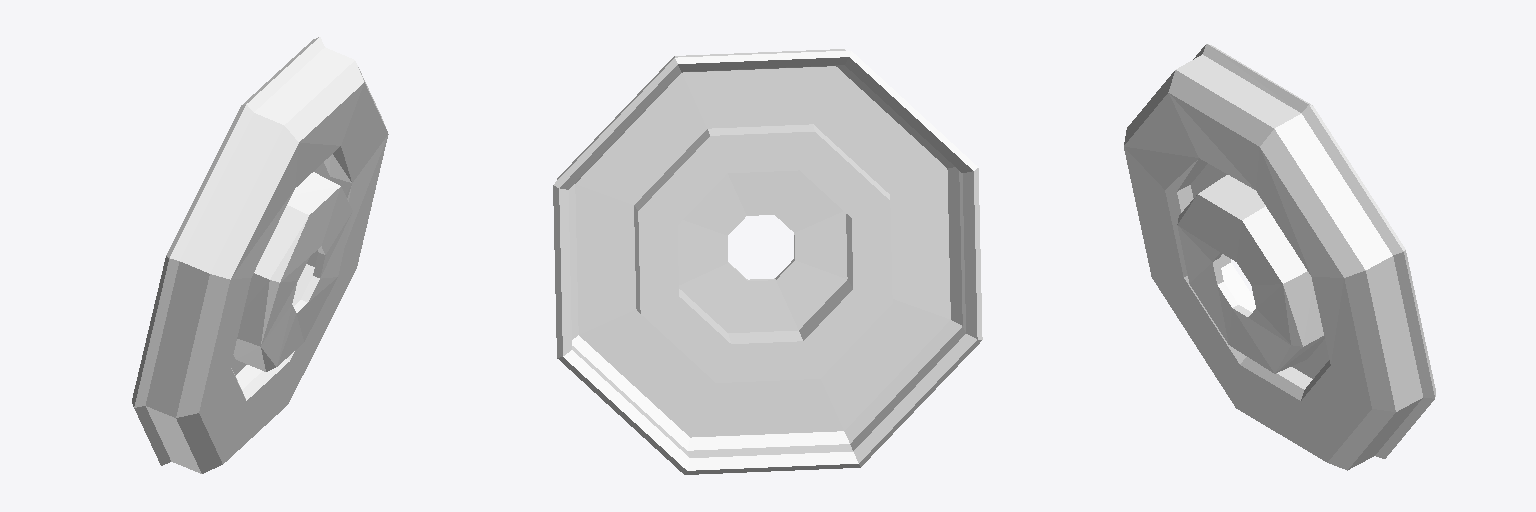
File: cap.obj
The picture shows the model from 3 angles: view 1: azimuth 30°, elevation 25°; view 2: azimuth 150°, elevation 25°; view 3: azimuth 270°, elevation 25°; orthographic projection.
Visible parts, largest first — view 1: 000_Cap; view 2: 000_Cap; view 3: 000_Cap.
Boxes of the visible parts, x1=… form: 000_Cap: x1=132, y1=37, x2=388, y2=473; 000_Cap: x1=553, y1=49, x2=982, y2=474; 000_Cap: x1=1124, y1=44, x2=1435, y2=470.
Bounding box in the file's own units: 45.28 × 48.82 × 36.44.